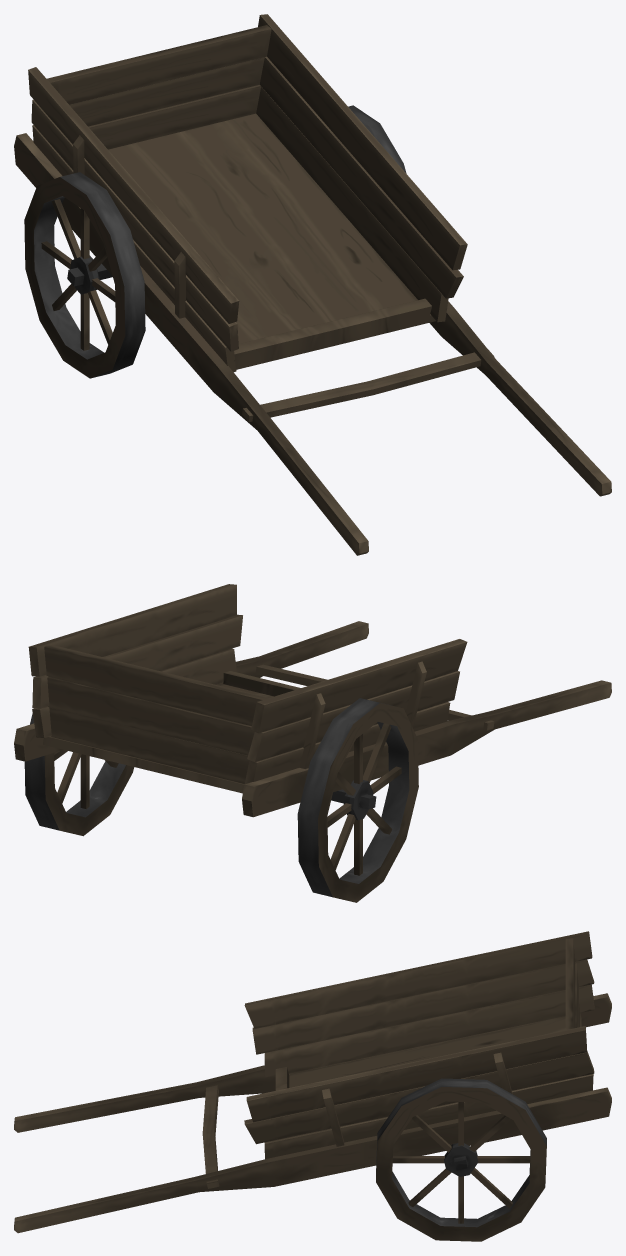
The model's file is Cart01.fbx.
3 renders of one model, top to bottom at view 1: azimuth 30°, elevation 25°; view 2: azimuth 150°, elevation 25°; view 3: azimuth 270°, elevation 25°, orthographic. The views are drawn at different scales.
Visible parts, largest first — view 1: Cart01_LOD0, Wheels01_LOD0; view 2: Cart01_LOD0, Wheels01_LOD0; view 3: Cart01_LOD0, Wheels01_LOD0.
Boxes of the visible parts, x1,y1,x2,y2 form: Cart01_LOD0: (14, 14, 611, 555); Wheels01_LOD0: (24, 105, 406, 378); Cart01_LOD0: (14, 584, 611, 817); Wheels01_LOD0: (24, 698, 418, 902); Cart01_LOD0: (14, 931, 611, 1233); Wheels01_LOD0: (376, 1078, 546, 1241).
Size of what is drawn, in the model's own units: 149 by 113 by 302.
